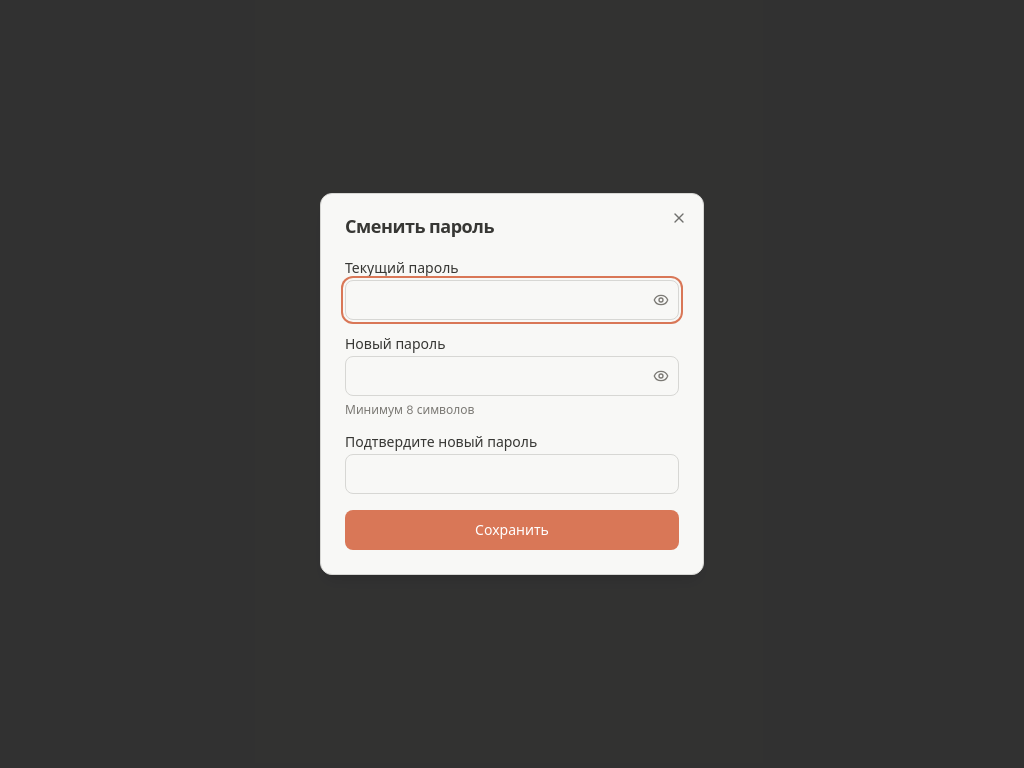
Scenario: ChangePasswordDialog › валидирует несовпадение паролей
Type "oldpass123" into the password field labelled "Текущий пароль" at (512, 300), box x1=345 y1=280 x2=679 y2=320
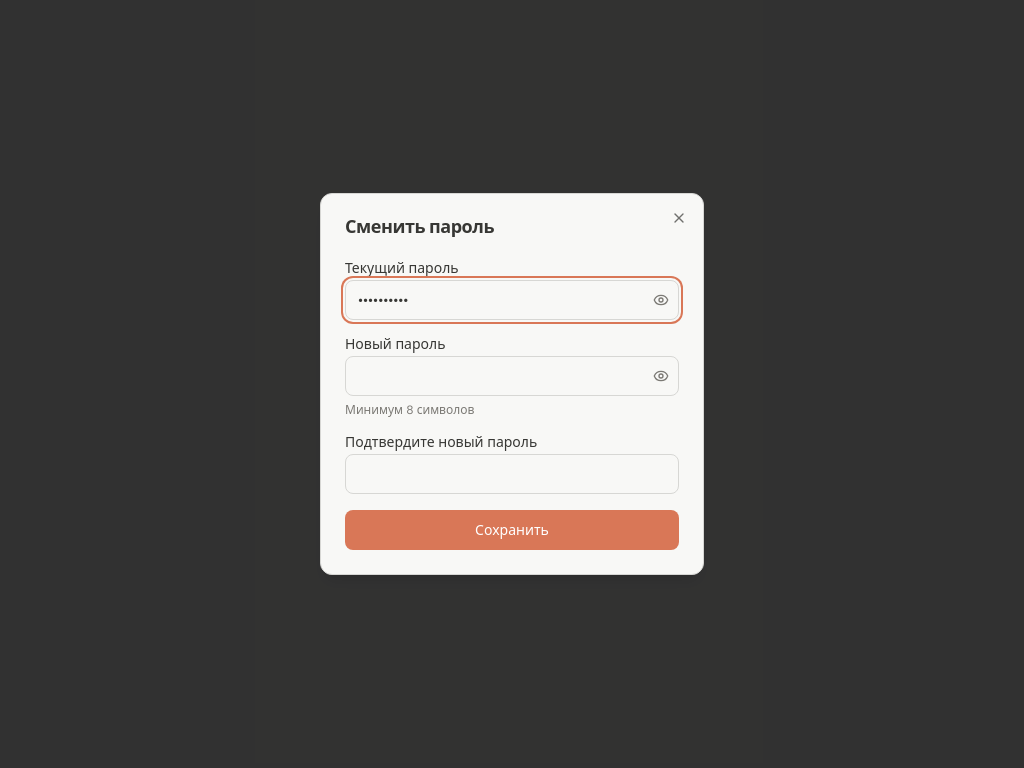
Type "newpass123" into the password field labelled "Новый пароль" at (512, 376), box x1=345 y1=356 x2=679 y2=396
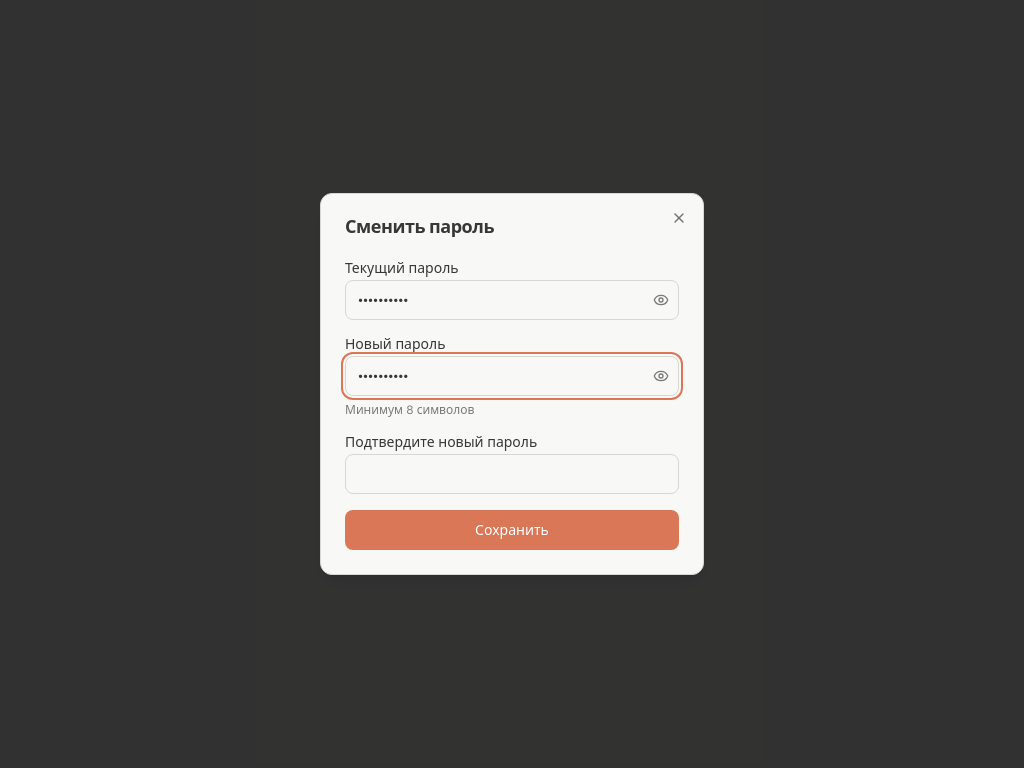
Type "different123" into the password field labelled "Подтвердите новый пароль" at (512, 474), box x1=345 y1=454 x2=679 y2=494
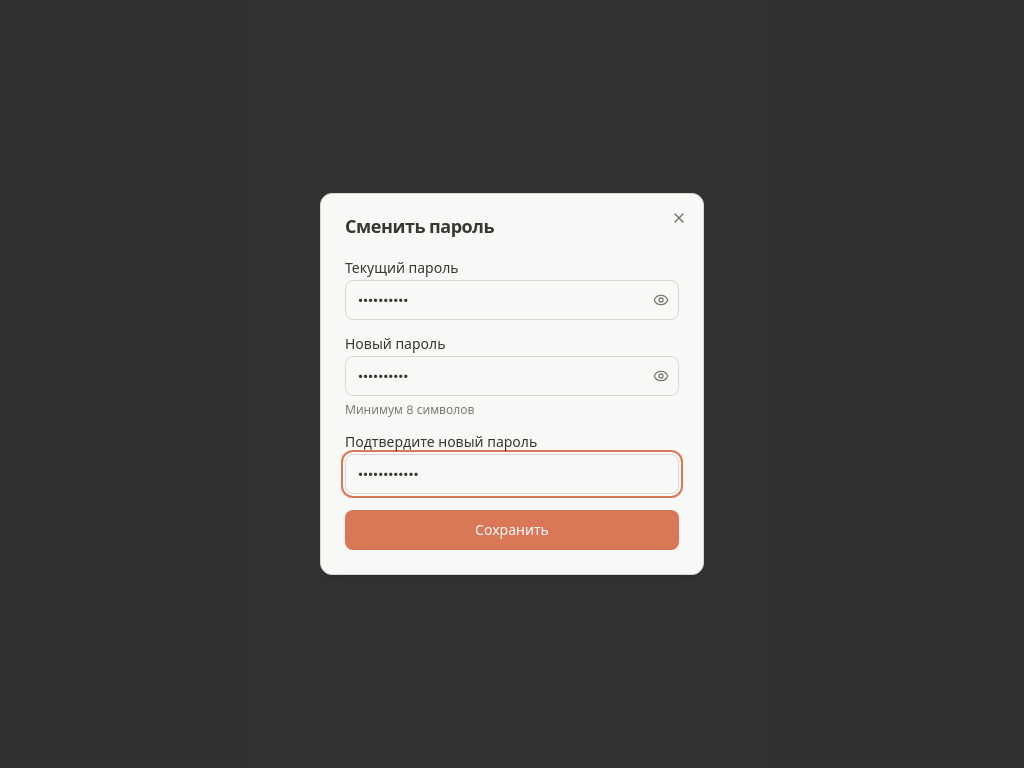
Click the button "Сохранить" at (512, 530), box x1=345 y1=510 x2=679 y2=550
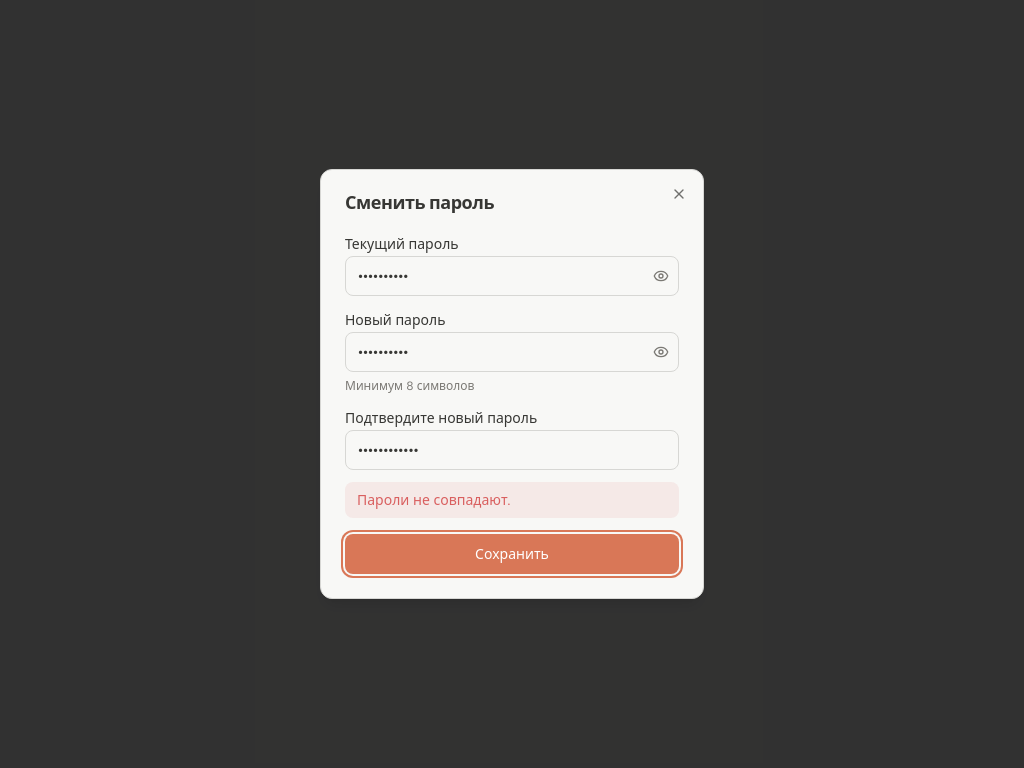
expect the text "Пароли не совпадают." is shown: met, box x1=345 y1=482 x2=679 y2=518
